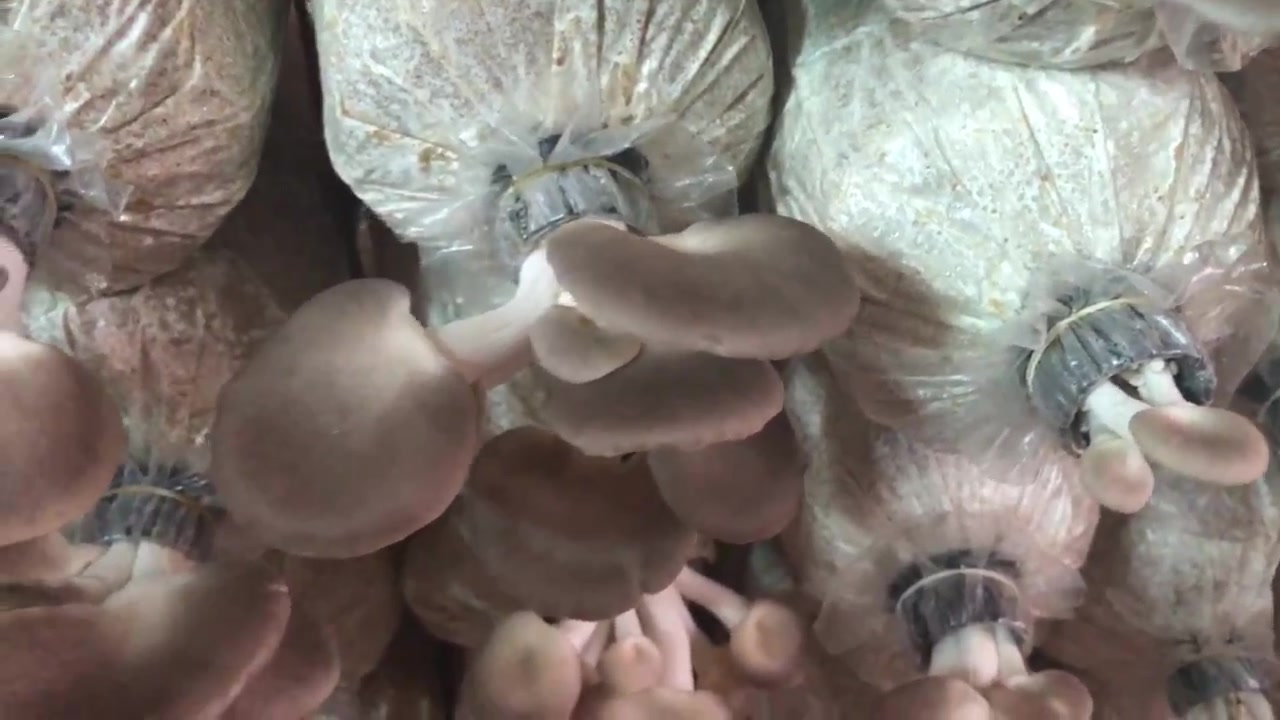nam: (213, 163, 859, 618), (1, 485, 338, 720), (1, 132, 125, 539), (1039, 295, 1266, 514), (885, 566, 1091, 720)
